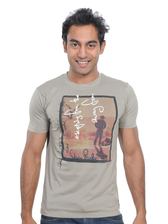clothoes: (27, 68, 142, 219)
